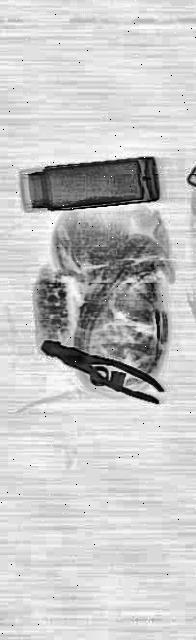Pliers: (40, 328, 164, 416)
